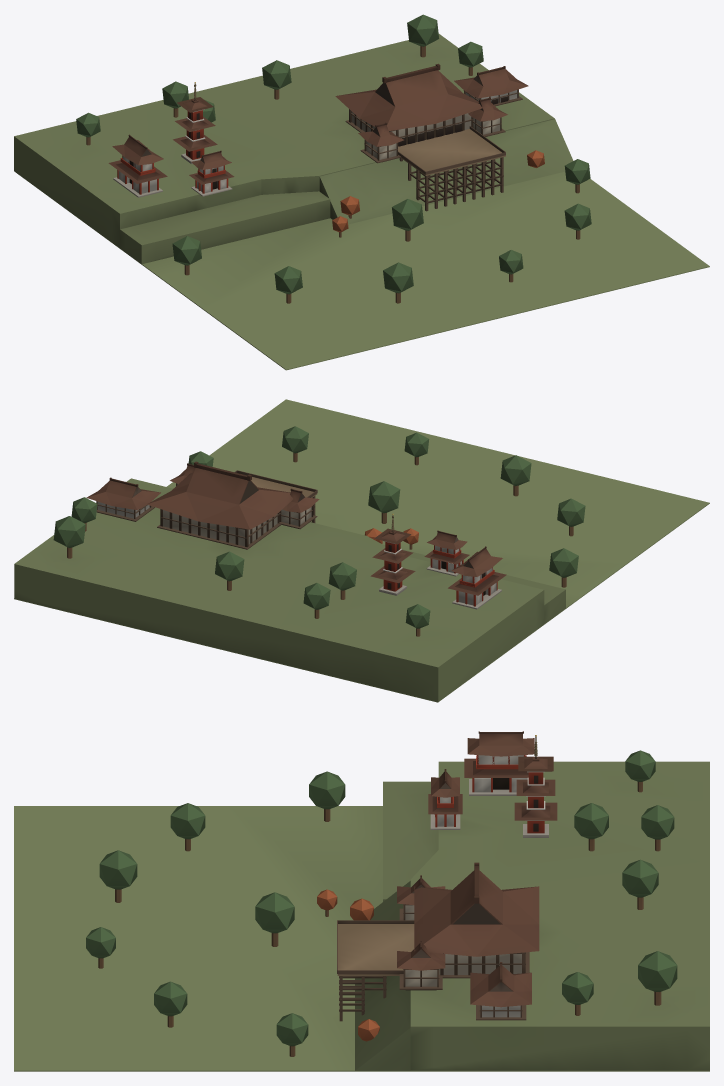
The model's file is kiyomizu.glb.
3 renders of one model, top to bottom at view 1: azimuth 30°, elevation 25°; view 2: azimuth 150°, elevation 25°; view 3: azimuth 270°, elevation 25°, orthographic. The views are drawn at different scales.
Visible parts, largest first — view 1: p0_grounds, p2_roofs, p1_halls; view 2: p0_grounds, p2_roofs, p1_halls; view 3: p0_grounds, p2_roofs, p1_halls.
Part boxes in pixels (box(x1,y1,x2,y2)): p0_grounds: box(14, 34, 709, 370); p2_roofs: box(76, 14, 591, 303); p1_halls: box(113, 89, 522, 211); p0_grounds: box(14, 399, 709, 702); p2_roofs: box(53, 426, 585, 636); p1_halls: box(96, 470, 501, 609); p0_grounds: box(14, 761, 709, 1071); p2_roofs: box(86, 731, 677, 1056); p1_halls: box(337, 755, 529, 1021).
Bounding box in the file's own units: 180 × 45.31 × 200.
